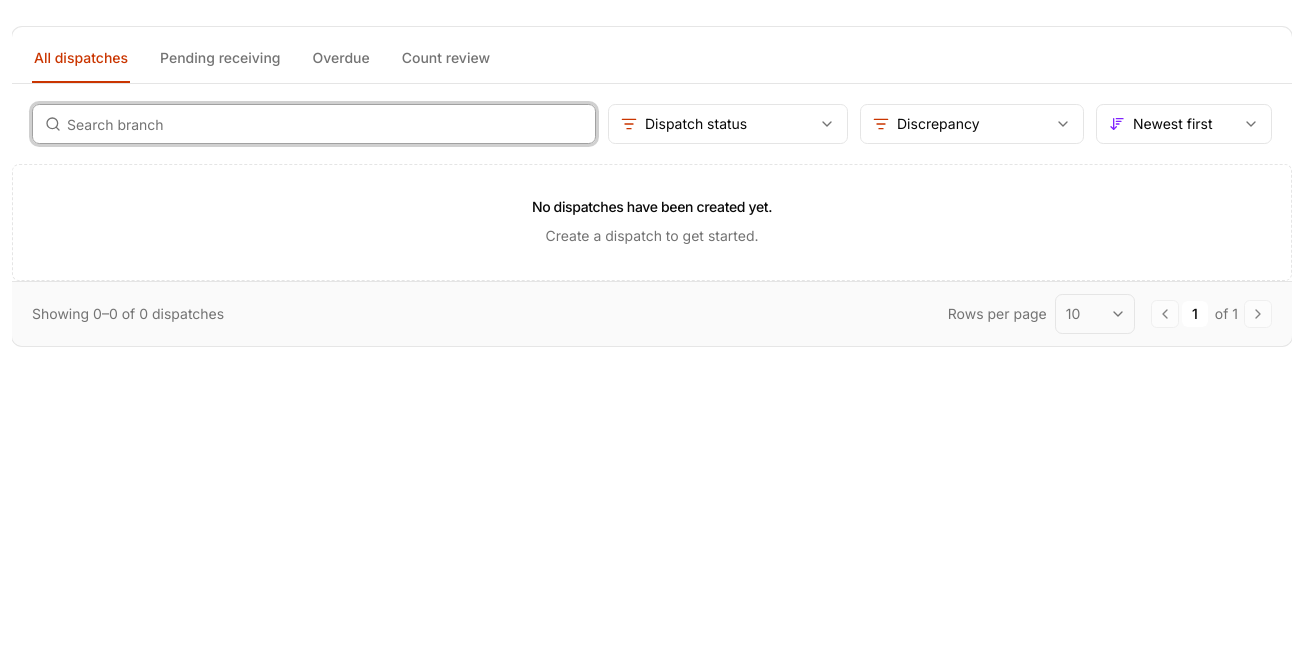
it: dispatch management › shows loading while search is debounced, keeps focus, and restores results on completion
Later steps or results of the test are not shown.
Step 1. Type "Main" into the search field labelled "Search branch" → (328, 124), box [61,105,595,143]
Wait 350 ms
(page scrolled)
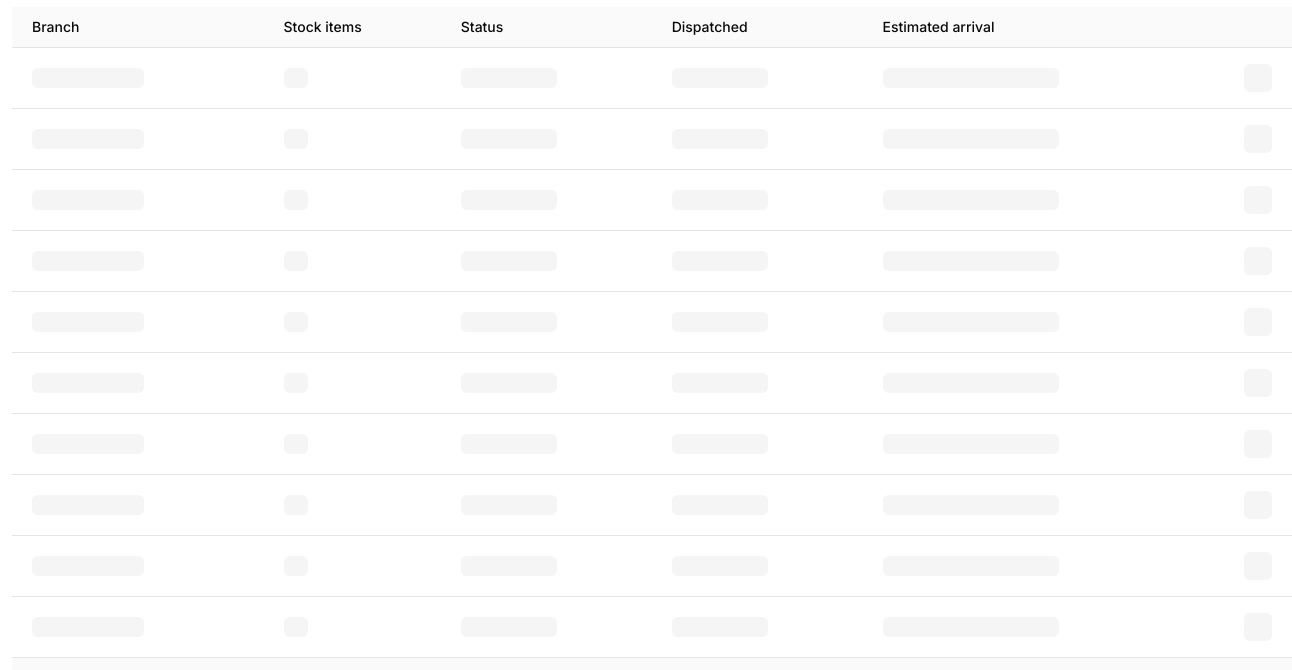
Expected: the element named "Dispatch results" has attribute aria-busy="true"
